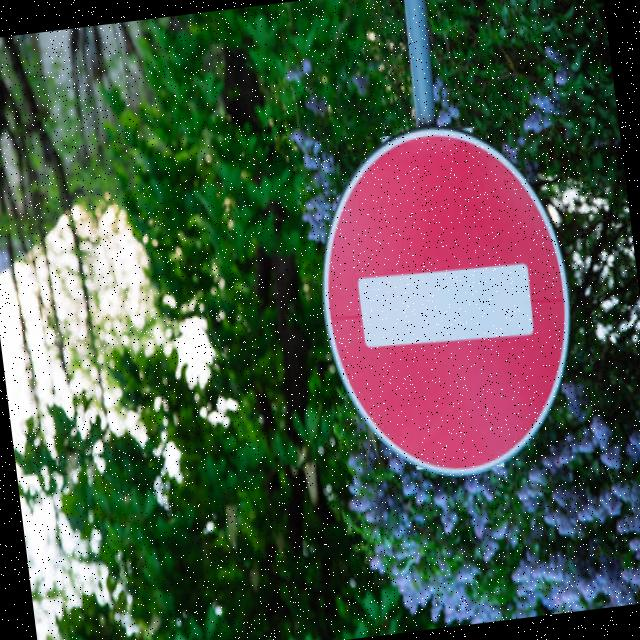do_not_enter: (291, 90, 604, 500)
